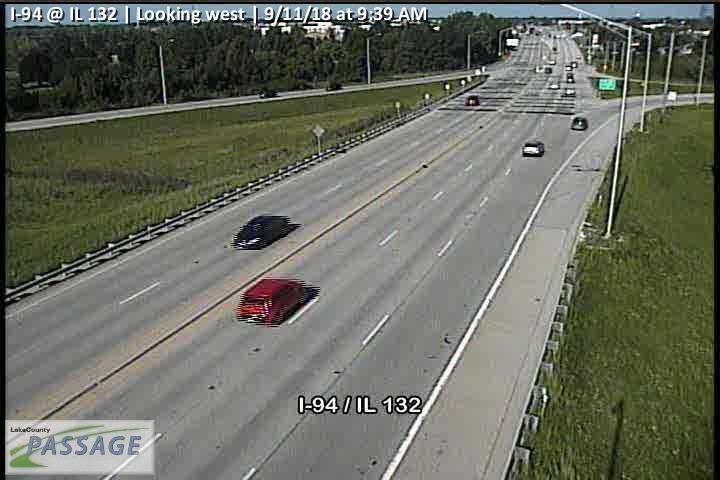Sedan: (234, 276, 308, 329), (231, 214, 292, 247), (522, 142, 544, 155), (571, 116, 588, 129), (467, 96, 479, 106)
